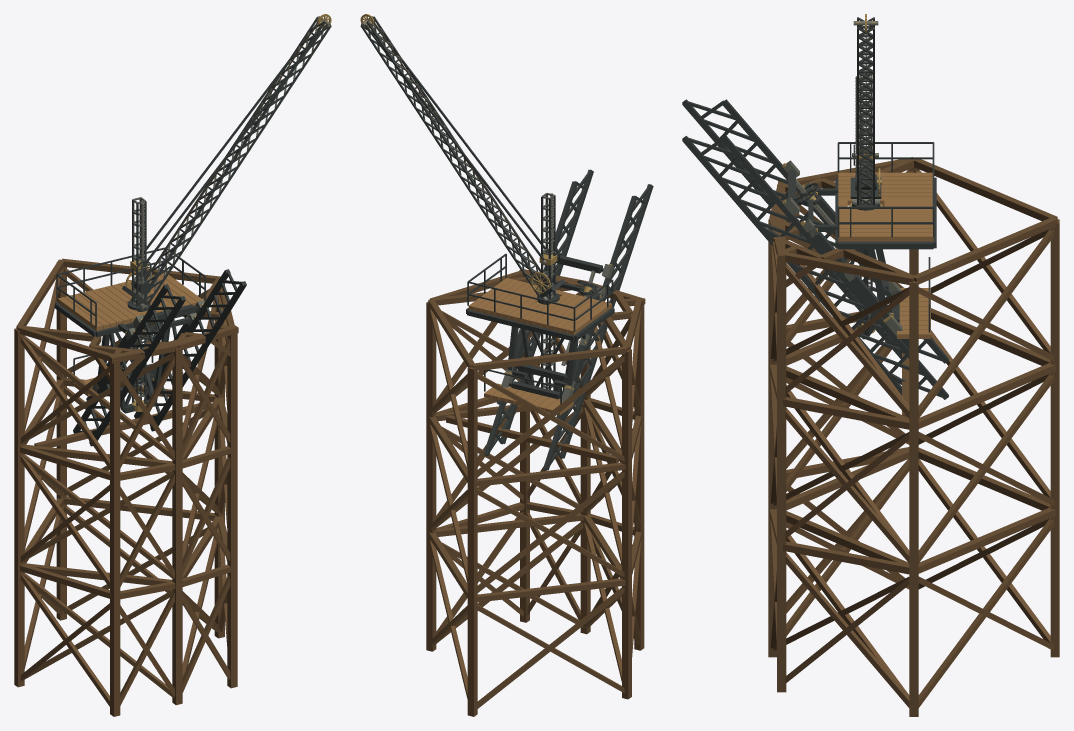
The model's file is crane.glb.
3 renders of one model, left to right at view 1: azimuth 30°, elevation 25°; view 2: azimuth 150°, elevation 25°; view 3: azimuth 270°, elevation 25°, orthographic. The views are drawn at different scales.
Visible parts, largest first — view 1: guyenet-installed-guides-and-falsework-timber-dark.001, guyenet-installed-guides-and-falsework-iron.001, guyenet-jib-iron.006, guyenet-carriage-iron.006, guyenet-carriage-timber.006, guyenet-rotor-iron.006, guyenet-jib-edge.006, guyenet-tie-iron.012, guyenet-tie-iron.013, guyenet-rotor-edge.006; view 2: guyenet-installed-guides-and-falsework-timber-dark.001, guyenet-installed-guides-and-falsework-iron.001, guyenet-carriage-iron.006, guyenet-jib-iron.006, guyenet-carriage-timber.006, guyenet-rotor-iron.006, guyenet-safety-base-timber.006, guyenet-tie-iron.013, guyenet-safety-base-iron.006, guyenet-tie-iron.012, guyenet-jib-edge.006, guyenet-rotor-edge.006; view 3: guyenet-installed-guides-and-falsework-timber-dark.001, guyenet-installed-guides-and-falsework-iron.001, guyenet-carriage-timber.006, guyenet-carriage-iron.006, guyenet-jib-iron.006, guyenet-jib-edge.006, guyenet-safety-base-timber.006.
Boxes of the visible parts, <box> form: guyenet-installed-guides-and-falsework-timber-dark.001: <box>14,258,238,716</box>; guyenet-installed-guides-and-falsework-iron.001: <box>73,269,246,446</box>; guyenet-jib-iron.006: <box>122,16,331,304</box>; guyenet-carriage-iron.006: <box>55,247,205,413</box>; guyenet-carriage-timber.006: <box>57,273,203,330</box>; guyenet-rotor-iron.006: <box>127,199,150,408</box>; guyenet-jib-edge.006: <box>138,17,323,302</box>; guyenet-tie-iron.012: <box>144,24,327,266</box>; guyenet-tie-iron.013: <box>138,21,320,258</box>; guyenet-rotor-edge.006: <box>132,197,145,397</box>; guyenet-installed-guides-and-falsework-timber-dark.001: <box>426,269,645,716</box>; guyenet-installed-guides-and-falsework-iron.001: <box>483,169,653,470</box>; guyenet-carriage-iron.006: <box>466,253,614,394</box>; guyenet-jib-iron.006: <box>360,16,565,298</box>; guyenet-carriage-timber.006: <box>468,278,611,335</box>; guyenet-rotor-iron.006: <box>537,195,559,390</box>; guyenet-safety-base-timber.006: <box>484,383,573,415</box>; guyenet-tie-iron.013: <box>364,24,544,260</box>; guyenet-safety-base-iron.006: <box>484,369,565,420</box>; guyenet-tie-iron.012: <box>371,21,548,252</box>; guyenet-jib-edge.006: <box>364,21,553,292</box>; guyenet-rotor-edge.006: <box>541,193,554,388</box>; guyenet-installed-guides-and-falsework-timber-dark.001: <box>768,157,1059,716</box>; guyenet-installed-guides-and-falsework-iron.001: <box>682,99,948,399</box>; guyenet-carriage-timber.006: <box>838,172,933,241</box>; guyenet-carriage-iron.006: <box>801,142,936,339</box>; guyenet-jib-iron.006: <box>850,17,881,205</box>; guyenet-jib-edge.006: <box>859,17,873,205</box>; guyenet-safety-base-timber.006: <box>897,288,930,338</box>.
Size of the model in its own units: 13.55 by 26.98 by 12.3.
